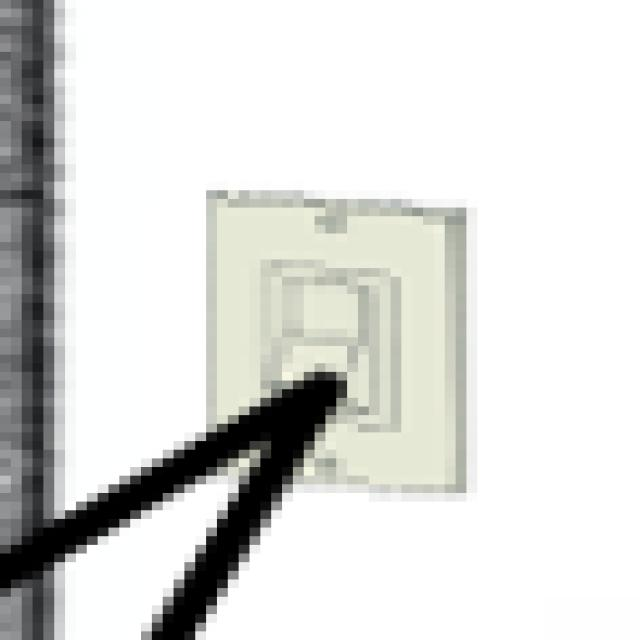switch: (176, 181, 485, 520)
